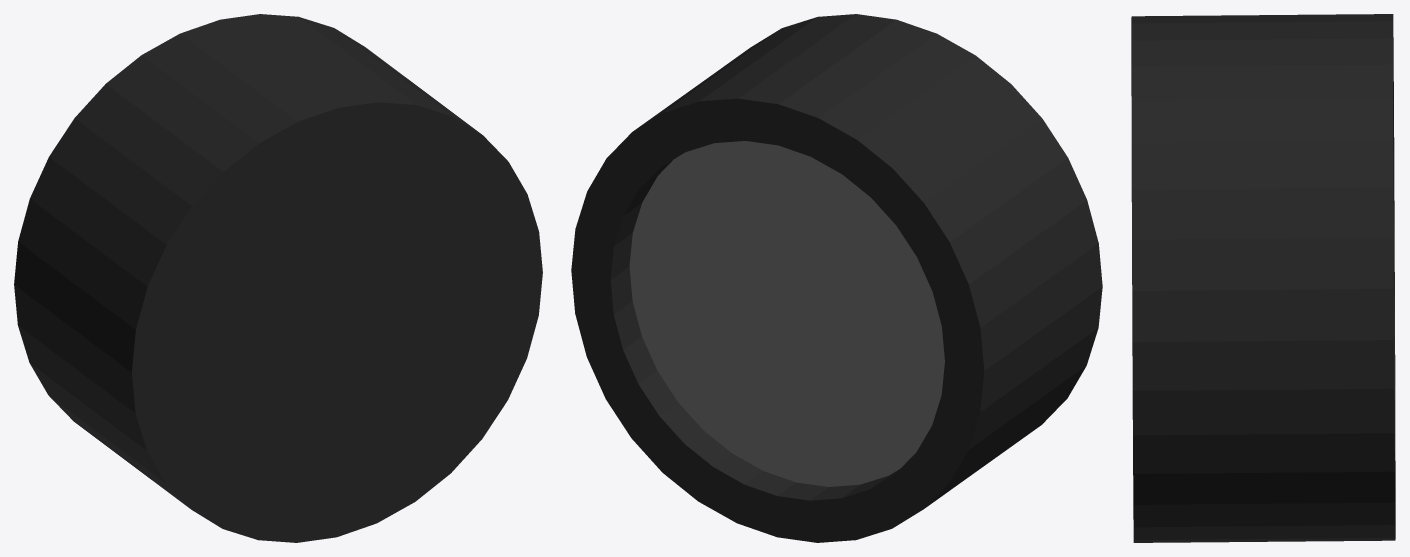
File: Wheel.fbx
3 views of the same model, side by side, from view 1: azimuth 30°, elevation 25°; view 2: azimuth 150°, elevation 25°; view 3: azimuth 270°, elevation 25° (orthographic). The views are drawn at different scales.
Parts seen in each view (by area): view 1: Cylinder.002; view 2: Cylinder.002; view 3: Cylinder.002.
Boxes of the visible parts, left/top/right/bottom form: Cylinder.002: left=14, top=14, right=542, bottom=542; Cylinder.002: left=571, top=14, right=1102, bottom=542; Cylinder.002: left=1131, top=14, right=1395, bottom=542.
Bounding box in the file's own units: 138 × 138 × 68.9.
